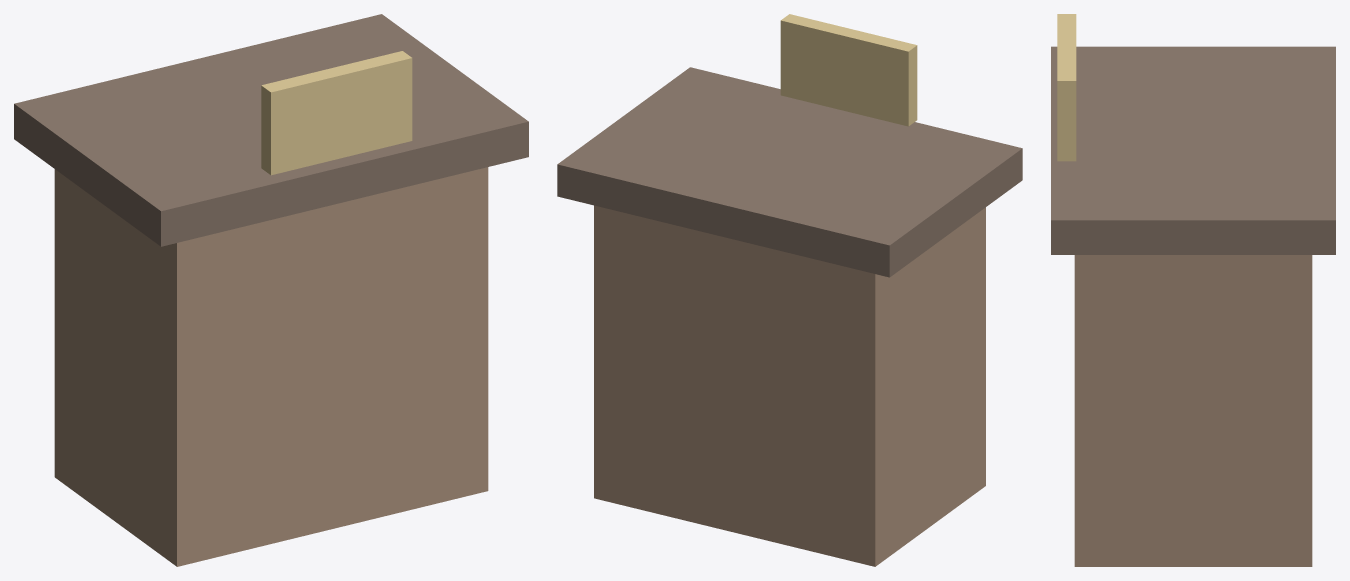
The model's file is university_podium.glb.
3 renders of one model, left to right at view 1: azimuth 30°, elevation 25°; view 2: azimuth 150°, elevation 25°; view 3: azimuth 270°, elevation 25°, orthographic. The views are drawn at different scales.
Visible parts, largest first — view 1: part_00, part_01, part_02; view 2: part_00, part_01, part_02; view 3: part_00, part_01, part_02.
Boxes of the visible parts, x1,y1,x2,y2 form: part_00: (54,167,488,566); part_01: (14,14,528,246); part_02: (261,51,412,175); part_00: (594,205,985,566); part_01: (557,67,1022,277); part_02: (780,14,917,126); part_00: (1074,255,1312,566); part_01: (1051,46,1335,254); part_02: (1057,14,1076,161).
Bounding box in the file's own units: 1.3 × 1.55 × 0.9.
